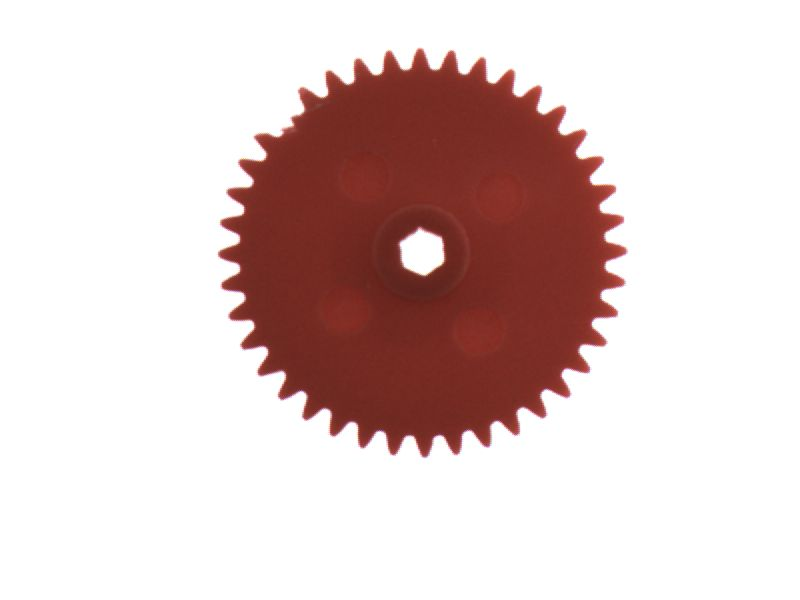defect_lack: (260, 91, 316, 143)
